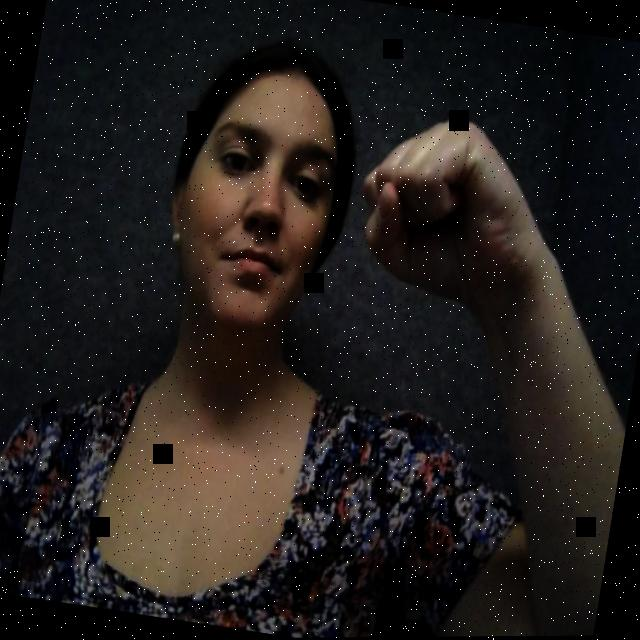Rock: (333, 93, 566, 331)
